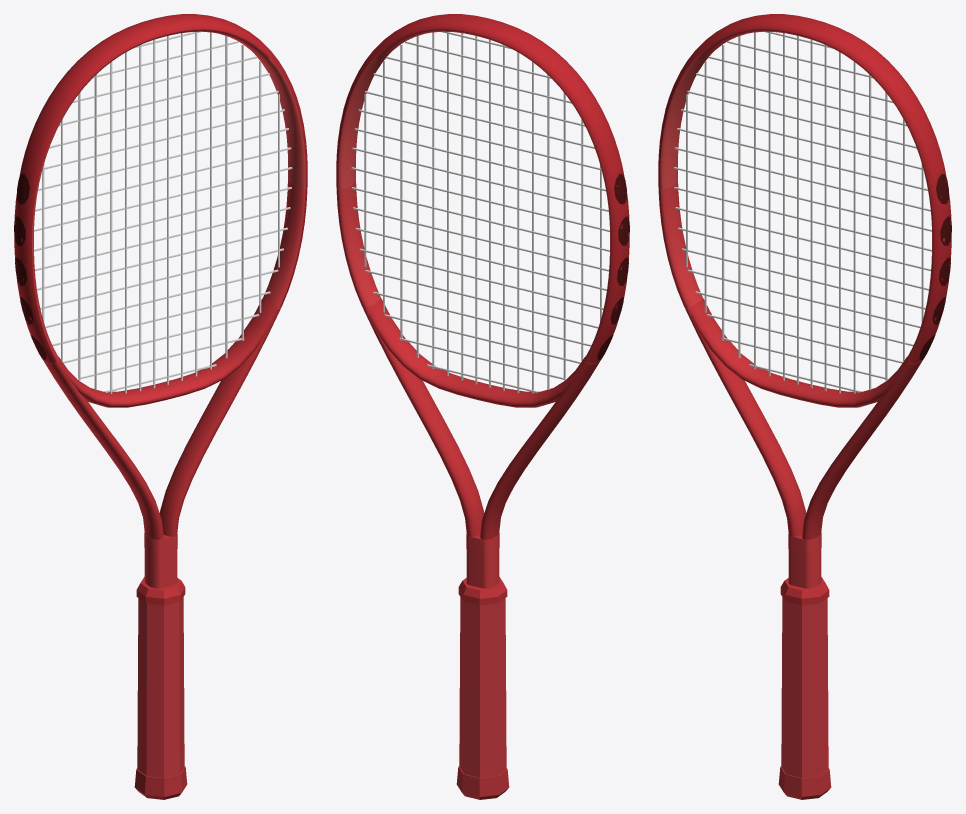
The model's file is prince-ripstick-100-280g-2025.glb.
3 renders of one model, left to right at view 1: azimuth 30°, elevation 25°; view 2: azimuth 150°, elevation 25°; view 3: azimuth 330°, elevation 25°, orthographic.
Parts seen in each view (by area): view 1: frame, strings_mains, strings_crosses, grip, bumper, grommets, butt_cap, collar; view 2: frame, strings_mains, strings_crosses, grip, bumper, grommets, butt_cap, collar; view 3: frame, strings_mains, strings_crosses, grip, bumper, grommets, butt_cap, collar.
Boxes of the visible parts, x1=… form: frame: x1=32, y1=29, x2=305, y2=588; strings_mains: x1=42, y1=32, x2=279, y2=393; strings_crosses: x1=34, y1=31, x2=292, y2=392; grip: x1=137, y1=597, x2=184, y2=777; bumper: x1=21, y1=14, x2=300, y2=176; grommets: x1=14, y1=111, x2=307, y2=362; butt_cap: x1=134, y1=766, x2=187, y2=799; collar: x1=136, y1=577, x2=185, y2=605; frame: x1=338, y1=29, x2=611, y2=588; strings_mains: x1=364, y1=32, x2=601, y2=393; strings_crosses: x1=351, y1=31, x2=609, y2=393; grip: x1=459, y1=597, x2=506, y2=777; bumper: x1=343, y1=14, x2=622, y2=176; grommets: x1=336, y1=111, x2=629, y2=362; butt_cap: x1=456, y1=766, x2=509, y2=799; collar: x1=458, y1=577, x2=507, y2=605; frame: x1=660, y1=29, x2=933, y2=588; strings_mains: x1=686, y1=32, x2=923, y2=393; strings_crosses: x1=673, y1=31, x2=931, y2=392; grip: x1=781, y1=597, x2=828, y2=777; bumper: x1=665, y1=14, x2=944, y2=176; grommets: x1=658, y1=111, x2=951, y2=362; butt_cap: x1=778, y1=766, x2=831, y2=799; collar: x1=780, y1=577, x2=829, y2=605.
Bounding box in the file's own units: 0.2671 × 0.6861 × 0.0396.
